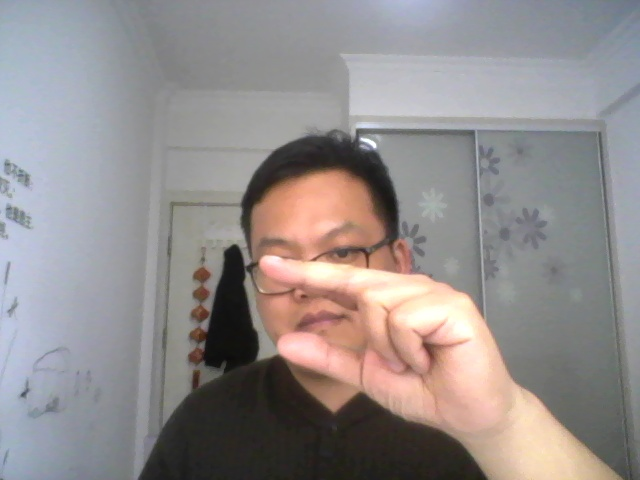No: (250, 250, 544, 446)
